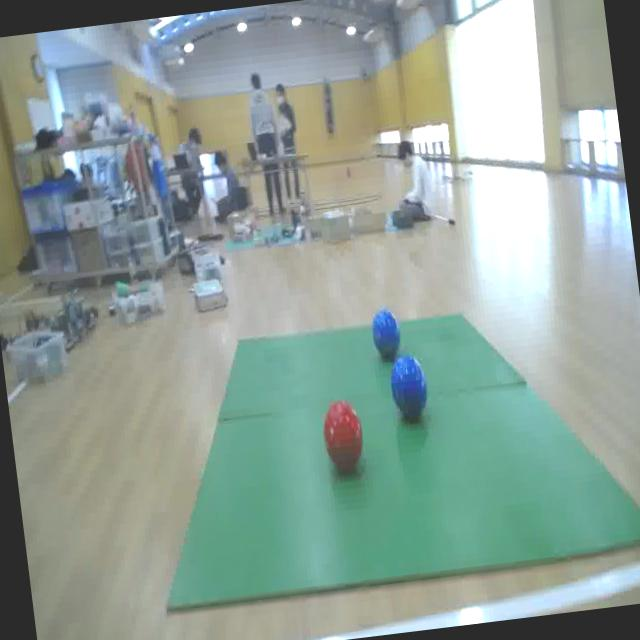blue_ball: (384, 349, 434, 428), (368, 306, 403, 360)
red_ball: (316, 394, 367, 476)
